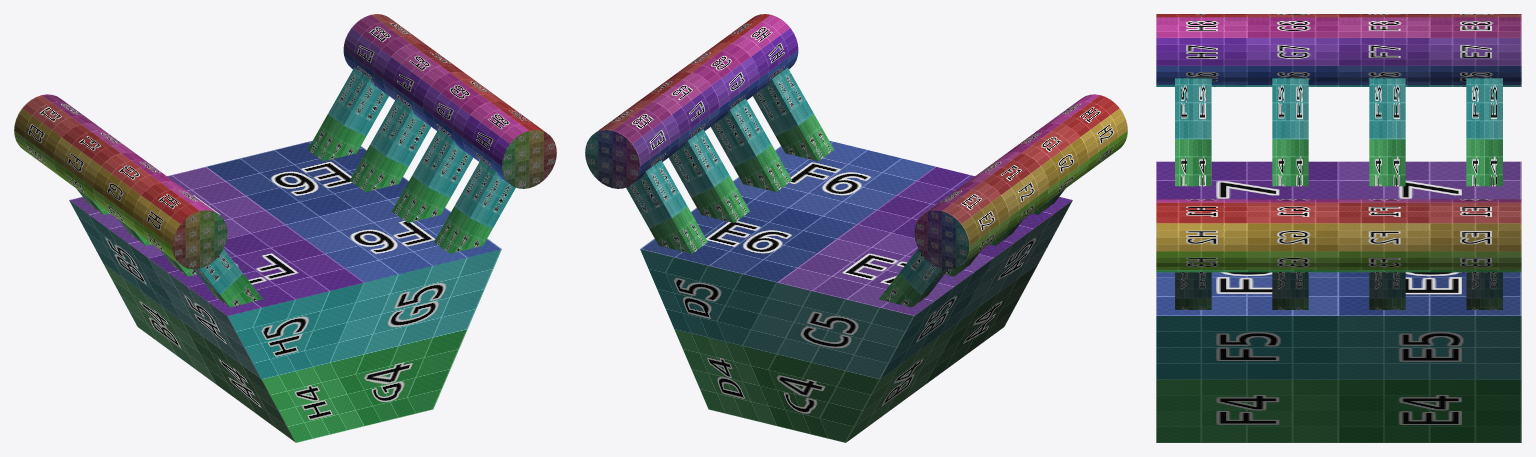
The model's file is track.gltf.
3 views of the same model, side by side, from view 1: azimuth 30°, elevation 25°; view 2: azimuth 150°, elevation 25°; view 3: azimuth 270°, elevation 25° (orthographic). The views are drawn at different scales.
Parts seen in each view (by area): view 1: Track; view 2: Track; view 3: Track.
Part boxes in pixels (box(x1,y1,x2,y2)): Track: box(14, 14, 556, 442); Track: box(585, 14, 1127, 442); Track: box(1156, 14, 1521, 442).
Bounding box in the file's own units: 2.8 × 1.78 × 2.
Materials: 1 (1 with a texture image).
